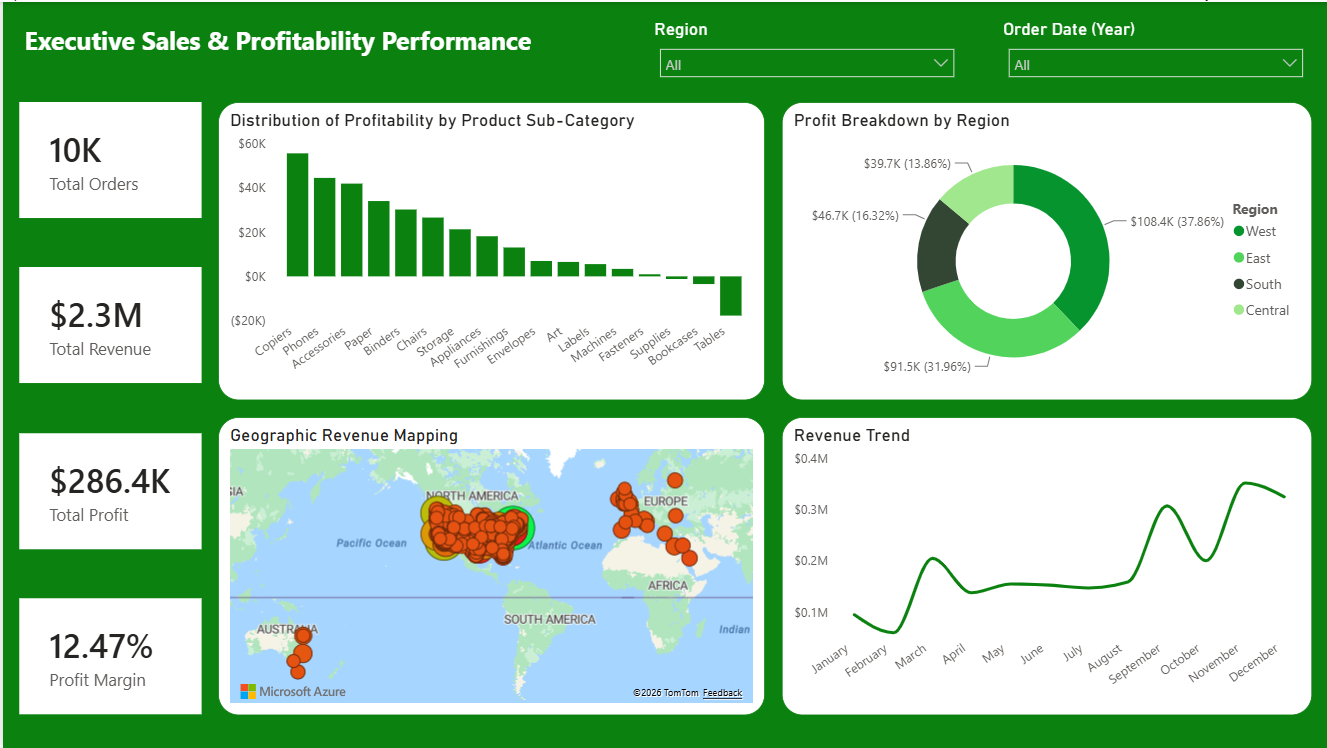

What the dashboard file says about the page in this screenshot:
{"tool":"powerbi","page":{"name":"Page 1","canvas":[1280,720],"ordinal":0},"visuals":[{"type":"cardVisual","fields":{"Data":["Sample - Superstore.Total Profit"]},"box":[16,416,176,112],"z":0},{"type":"cardVisual","fields":{"Data":["Sample - Superstore.Total Revenue"]},"box":[16,256,176,112],"z":1000},{"type":"cardVisual","fields":{"Data":["Sample - Superstore.Total Orders"]},"box":[16,96,176,112],"z":2000},{"type":"cardVisual","fields":{"Data":["Sample - Superstore.Profit Margin"]},"box":[16,576,176,112],"z":3000},{"type":"lineChart","title":"Revenue Trend","fields":{"Y":["Sample - Superstore.Total Revenue"],"Category":["Sample - Superstore.Order Date.Variation.Date Hierarchy.Year","Sample - Superstore.Order Date.Variation.Date Hierarchy.Quarter","Sample - Superstore.Order Date.Variation.Date Hierarchy.Month","Sample - Superstore.Order Date.Variation.Date Hierarchy.Day"]},"box":[752,400,512,288],"z":4000},{"type":"azureMap","title":"Geographic Revenue Mapping","fields":{"Category":["Sample - Superstore.Country","Sample - Superstore.State","Sample - Superstore.City"],"Size":["Sample - Superstore.Total Revenue"]},"box":[208,400,528,288],"z":5000},{"type":"columnChart","title":"Distribution of Profitability by Product Sub-Category","fields":{"Category":["Sample - Superstore.Sub-Category"],"Y":["Sample - Superstore.Total Profit"]},"box":[208,96,528,288],"z":6000},{"type":"donutChart","title":"Profit Breakdown by Region","fields":{"Y":["Sample - Superstore.Total Profit"],"Category":["Sample - Superstore.Region"]},"box":[752,96,512,288],"z":7000},{"type":"textbox","box":[16,16,544,48],"z":8000},{"type":"slicer","title":"Region","fields":{"Values":["Sample - Superstore.Region"]},"box":[624,16,304,64],"z":9000},{"type":"slicer","title":"Order Date (Year)","fields":{"Values":["Sample - Superstore.Order Date.Variation.Date Hierarchy.Year"]},"box":[960,16,304,64],"z":10000}]}

Visuals, with their boxes in screenshot pixels (x1, y1, x2, y2), scaled from the page's 1280x720 canvas onto the 1327x748 screenshot:
cardVisual - Sample - Superstore.Total Profit: pyautogui.locateOnScreen(17, 432, 199, 549)
cardVisual - Sample - Superstore.Total Revenue: pyautogui.locateOnScreen(17, 266, 199, 382)
cardVisual - Sample - Superstore.Total Orders: pyautogui.locateOnScreen(17, 100, 199, 216)
cardVisual - Sample - Superstore.Profit Margin: pyautogui.locateOnScreen(17, 598, 199, 715)
"Revenue Trend" lineChart: pyautogui.locateOnScreen(780, 416, 1310, 715)
"Geographic Revenue Mapping" azureMap: pyautogui.locateOnScreen(216, 416, 763, 715)
"Distribution of Profitability by Product Sub-Category" columnChart: pyautogui.locateOnScreen(216, 100, 763, 399)
"Profit Breakdown by Region" donutChart: pyautogui.locateOnScreen(780, 100, 1310, 399)
textbox: pyautogui.locateOnScreen(17, 17, 581, 66)
"Region" slicer: pyautogui.locateOnScreen(647, 17, 962, 83)
"Order Date (Year)" slicer: pyautogui.locateOnScreen(995, 17, 1310, 83)
